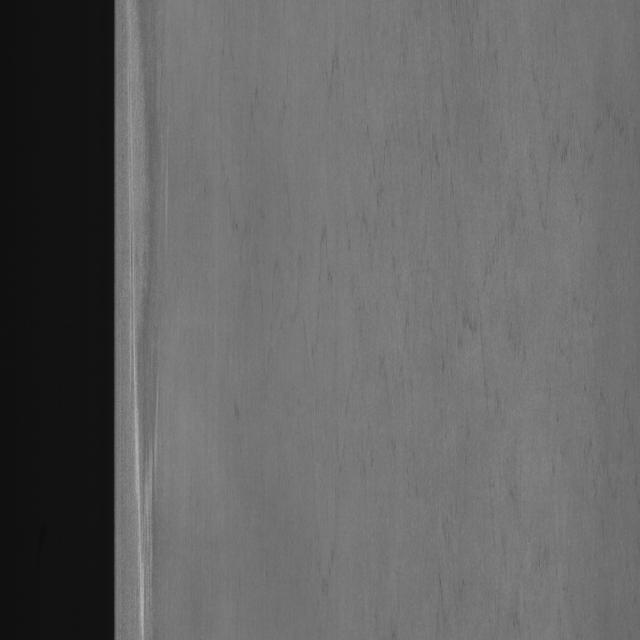inclusion: (124, 66, 190, 610)
